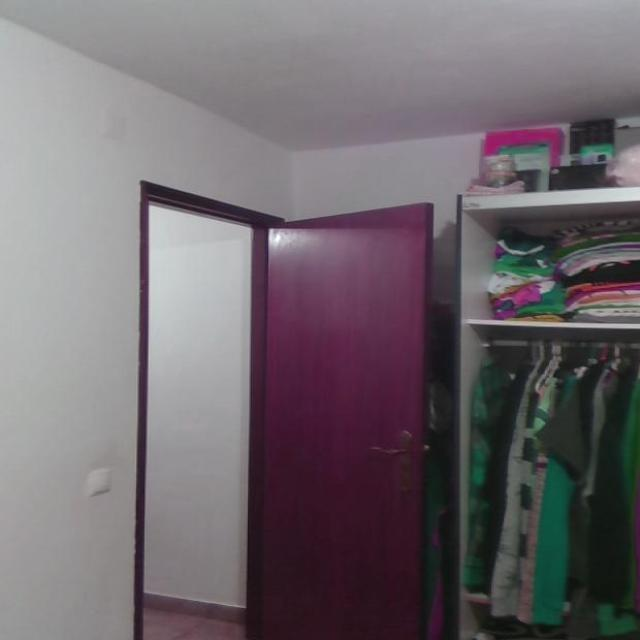door: (252, 202, 432, 638)
